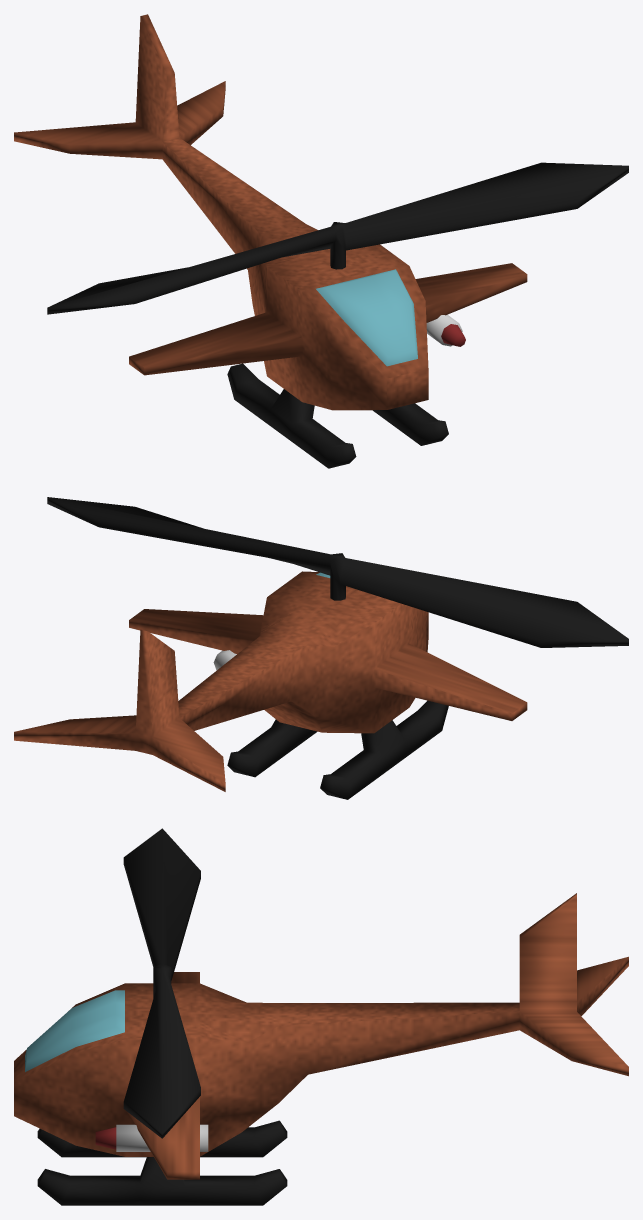
Rendered from Helly.fbx.
3 renders of one model, top to bottom at view 1: azimuth 30°, elevation 25°; view 2: azimuth 150°, elevation 25°; view 3: azimuth 270°, elevation 25°, orthographic. The views are drawn at different scales.
Visible parts, largest first — view 1: Helly, Vint, Bomb; view 2: Helly, Vint; view 3: Helly, Vint, Bomb.
Boxes of the visible parts, x1,y1,x2,y2 form: Helly: (14,14,527,468); Vint: (47,162,628,314); Bomb: (426,314,465,346); Helly: (14,571,527,799); Vint: (47,497,628,647); Helly: (14,893,628,1205); Vint: (123,828,200,1138); Bomb: (95,1124,208,1151).
Bounding box in the file's own units: 828 × 358 × 710.
1 material, 1 textured.
